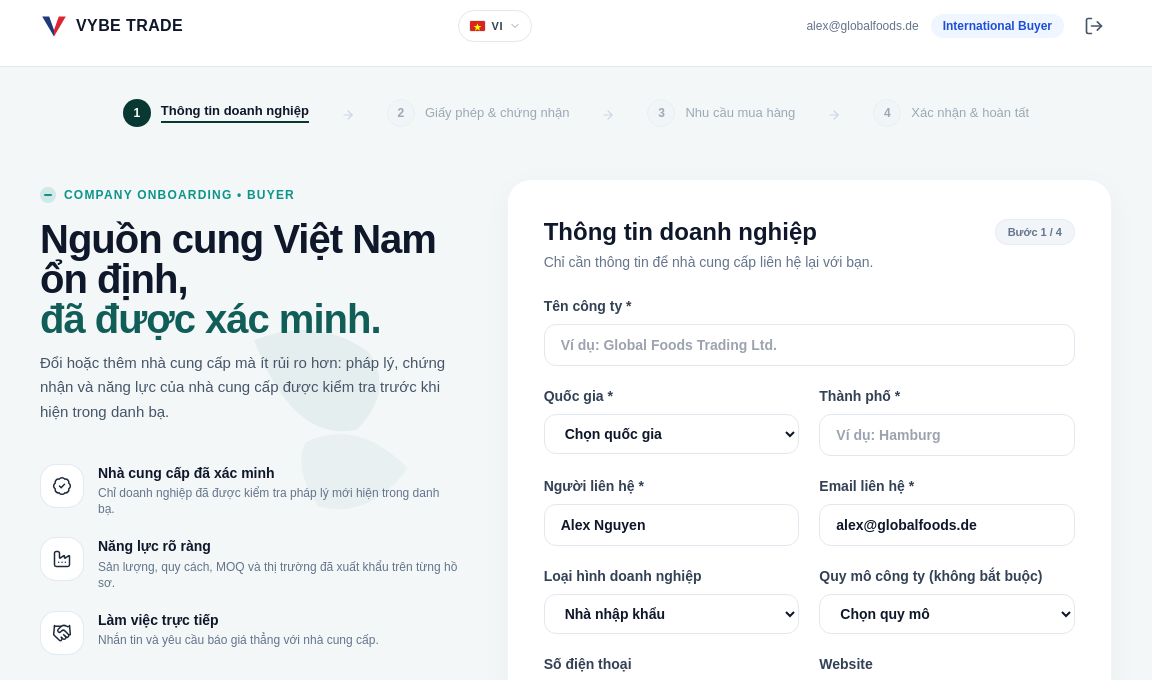
it: BuyerOnboarding tối giản (U5) › bước 2 chỉ khai mã định danh, không tải file; bỏ qua được và sang thẳng bước 3
Type "Global Foods GmbH" into the field labelled "Tên công ty *".
click(809, 345); type("Global Foods GmbH")  # box x1=544 y1=324 x2=1075 y2=366
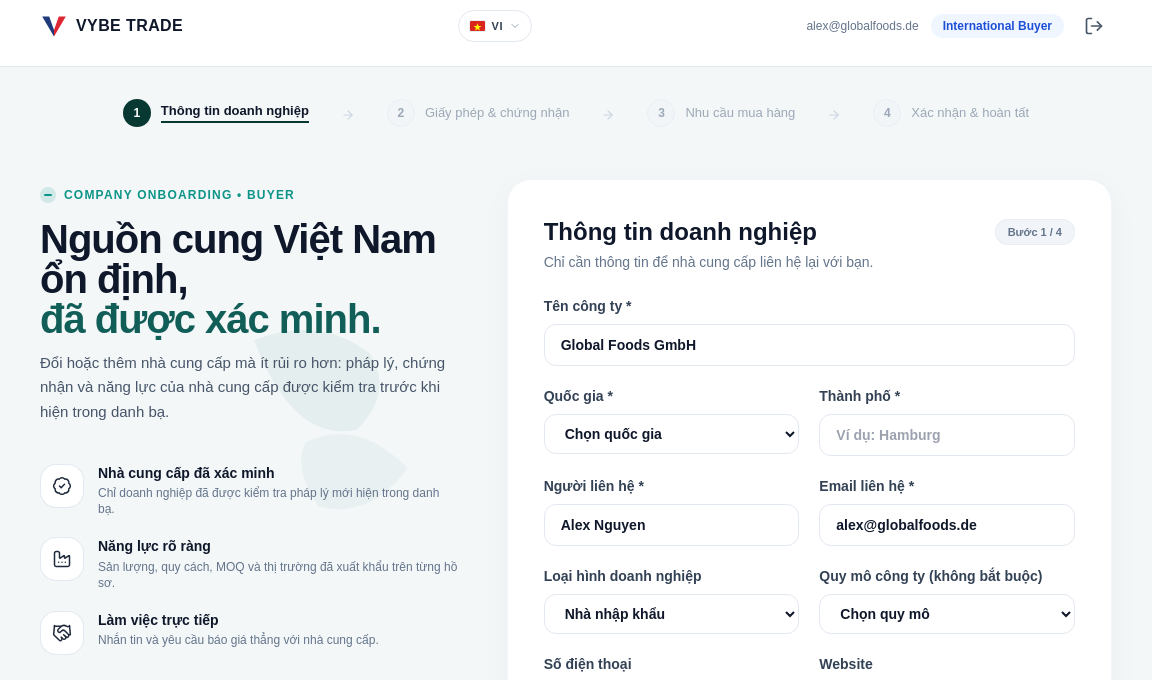
Select "Germany" in the dropdown labelled "Quốc gia *" at point(672, 434), box x1=544 y1=414 x2=799 y2=454
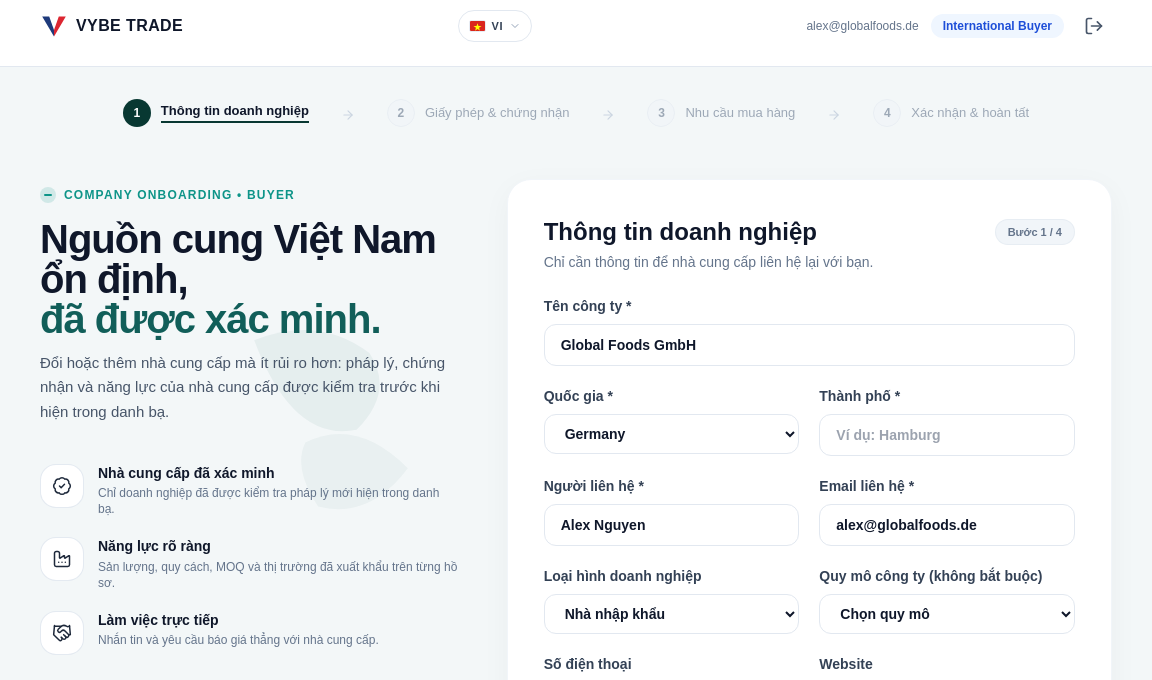
Type "Hamburg" into the field labelled "Thành phố *".
click(947, 435); type("Hamburg")  # box x1=819 y1=414 x2=1075 y2=456
(page scrolled)
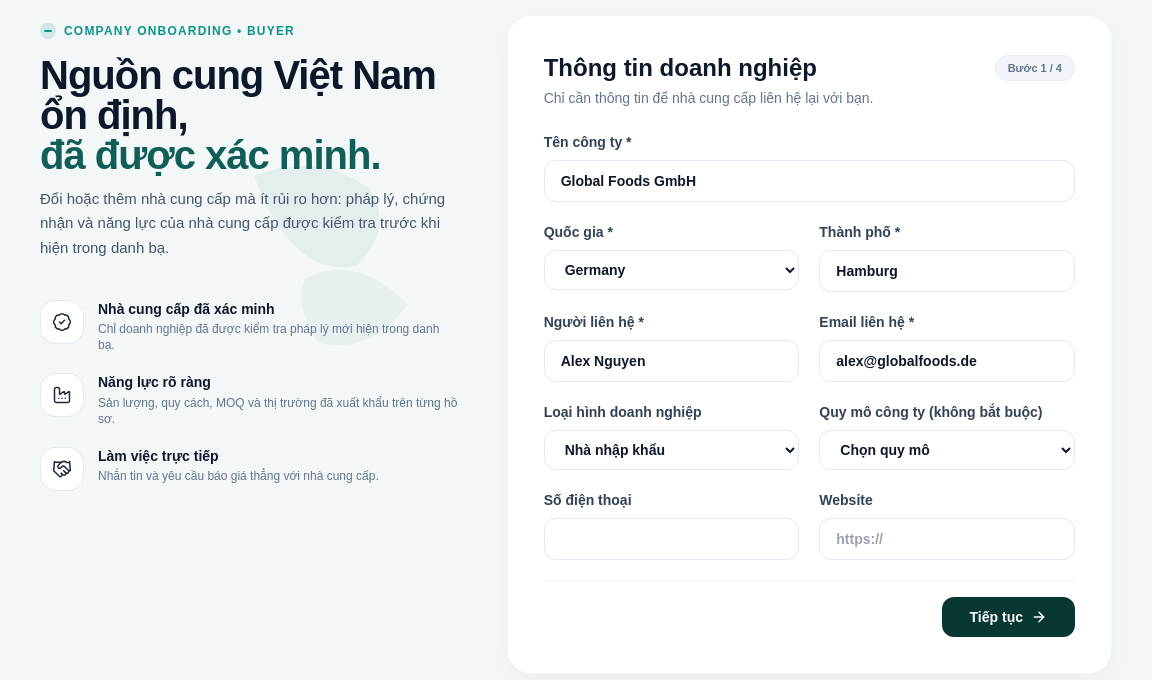
Submit the form, box x1=544 y1=132 x2=1075 y2=637
(page scrolled)
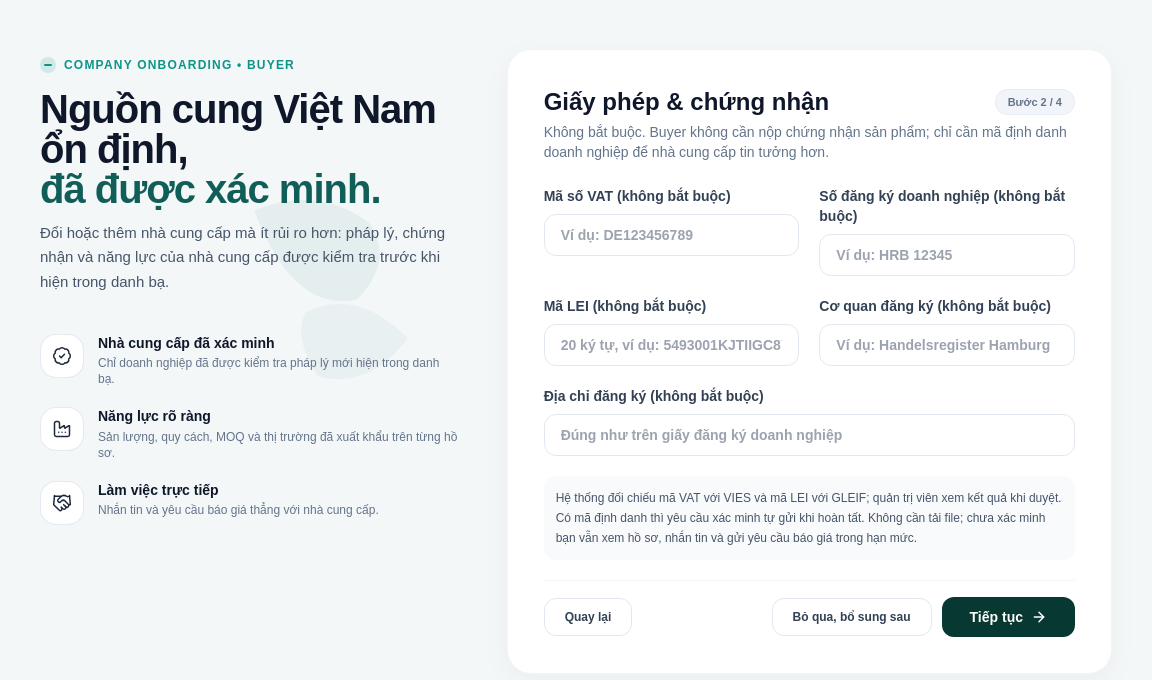
Result: the text "Bước 2 / 4" is shown at x1=995 y1=89 x2=1075 y2=115
Click the button "Bỏ qua, bổ sung sau".
click(852, 617)  # box x1=772 y1=598 x2=932 y2=636
(page scrolled)
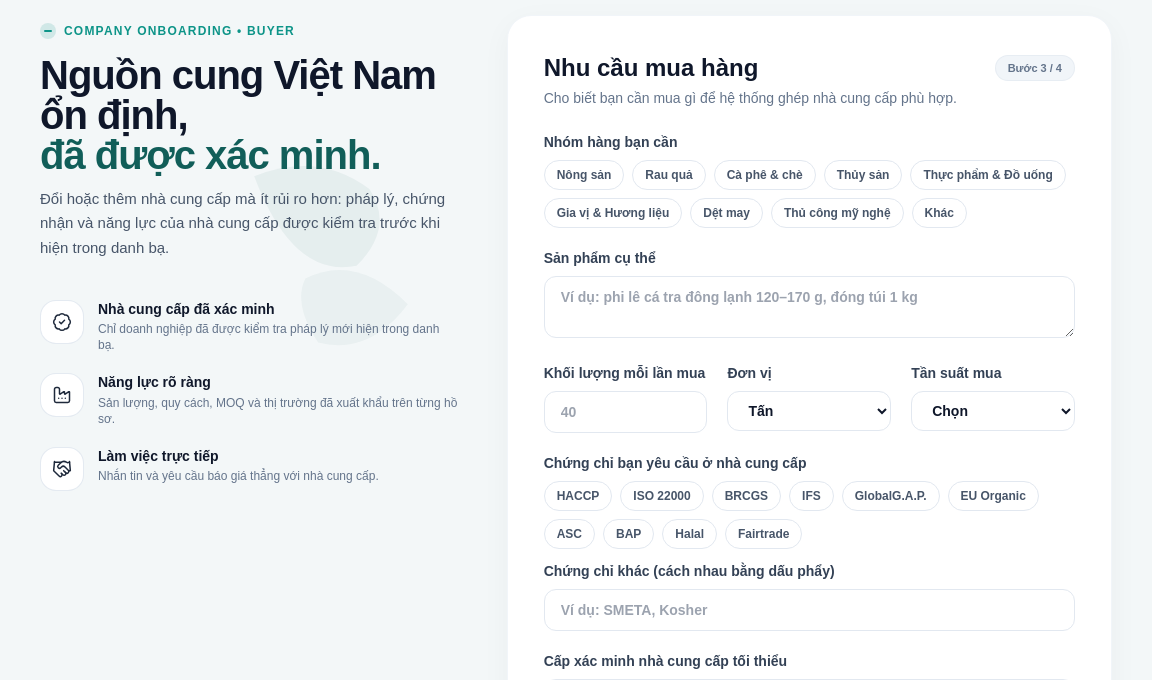
Result: the text "Bước 3 / 4" is shown at x1=995 y1=55 x2=1075 y2=81
